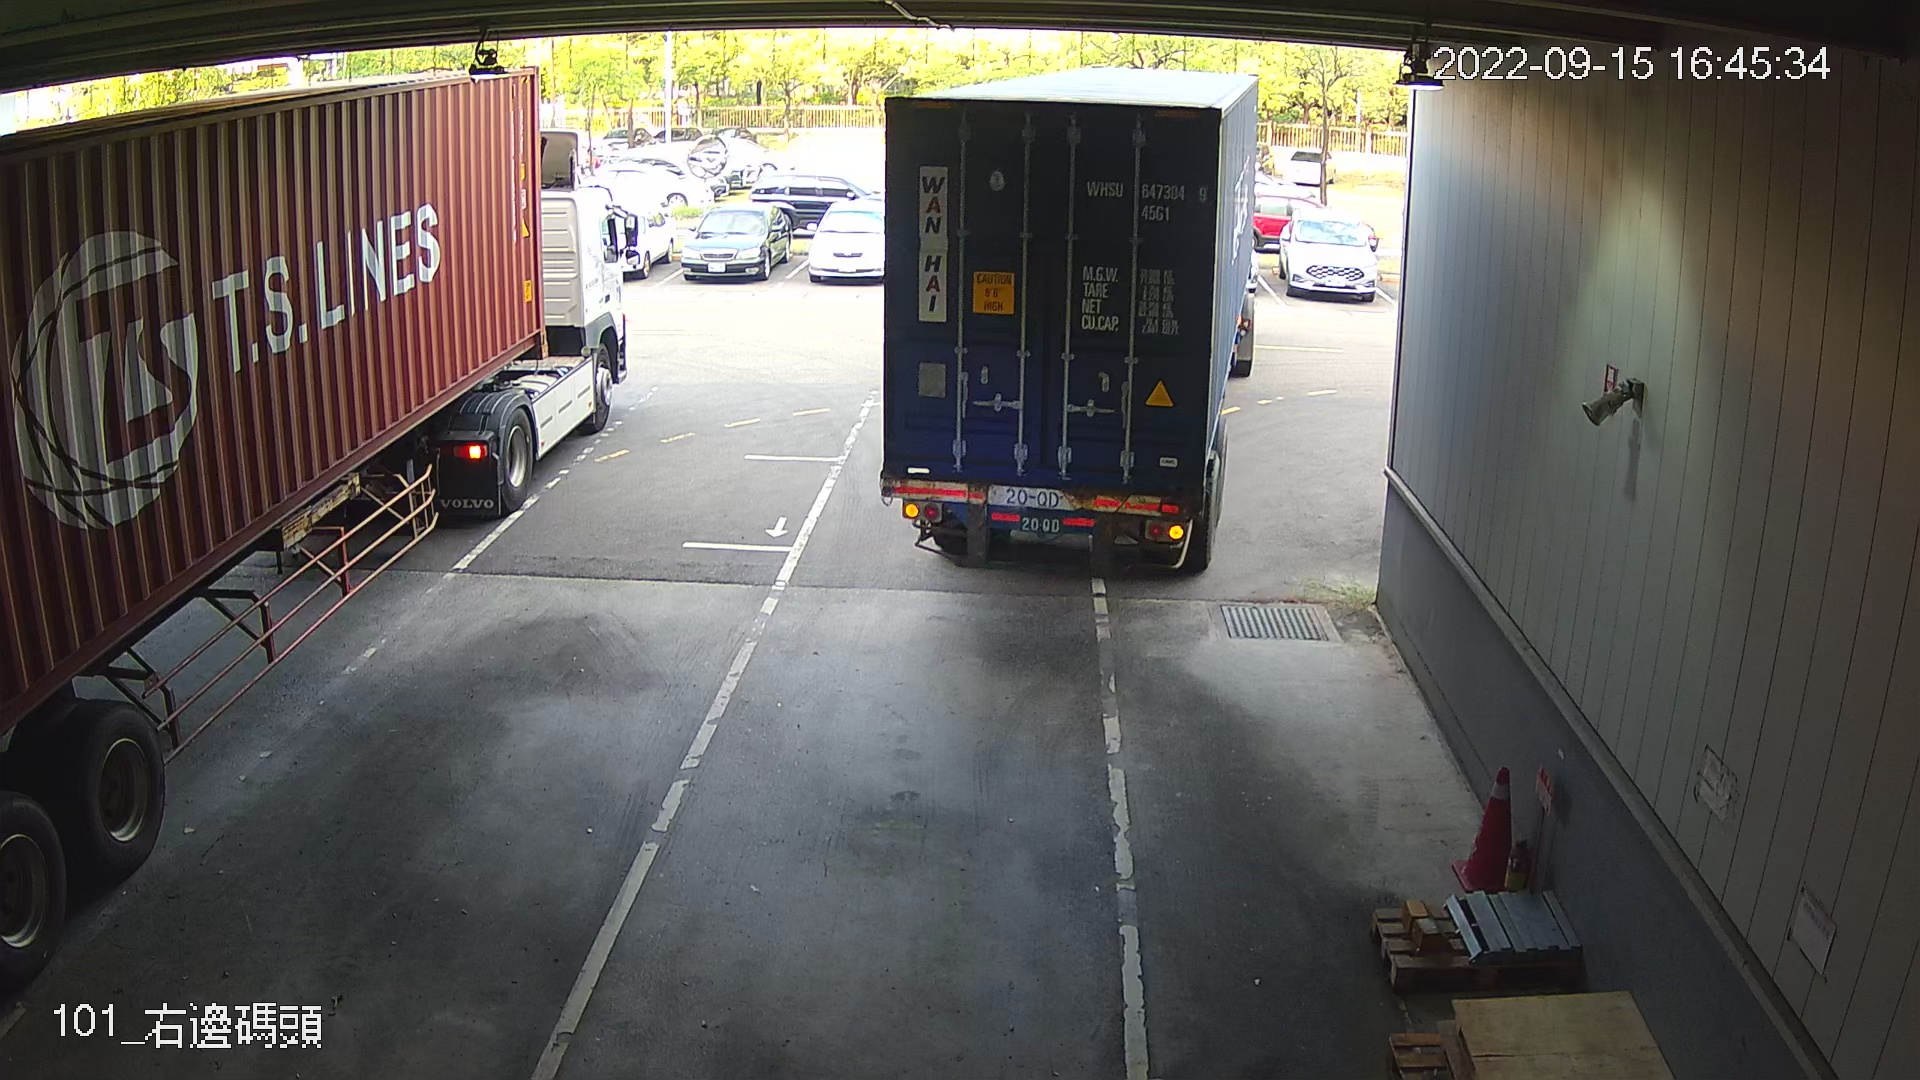container: (1079, 171, 1213, 229)
